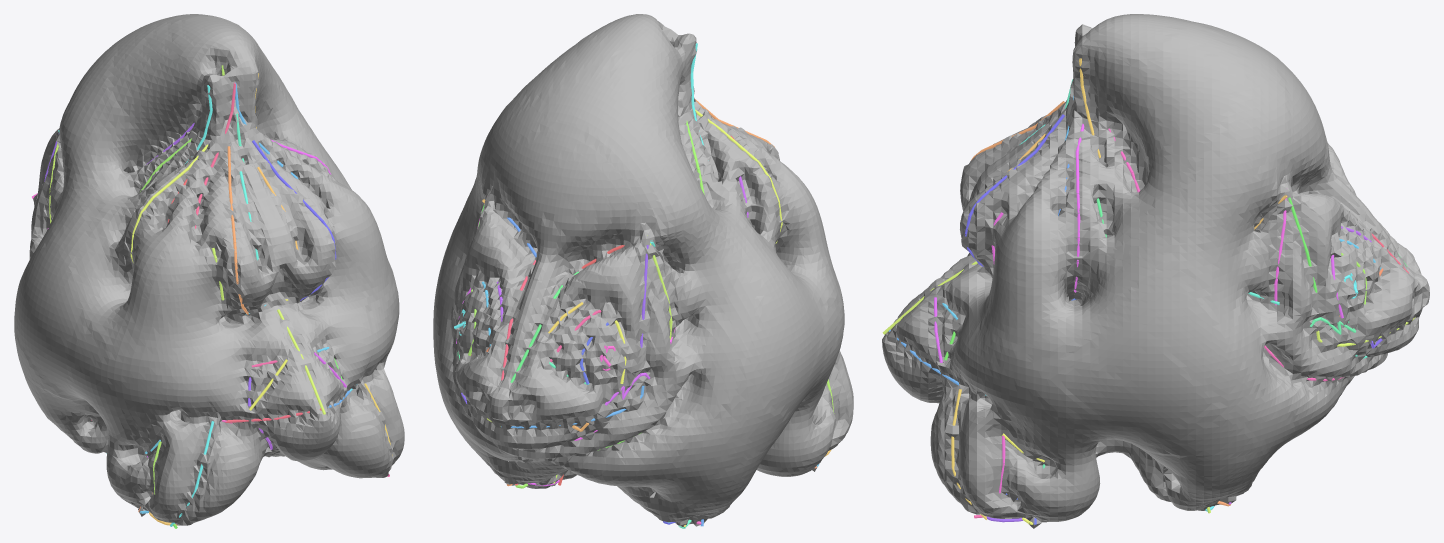
File: author1_bulbasaur.gltf
3 views of the same model, side by side, from view 1: azimuth 30°, elevation 25°; view 2: azimuth 150°, elevation 25°; view 3: azimuth 270°, elevation 25° (orthographic). The views are drawn at different scales.
Bounding box in the file's own units: 0.5263 × 0.6568 × 0.7118.
